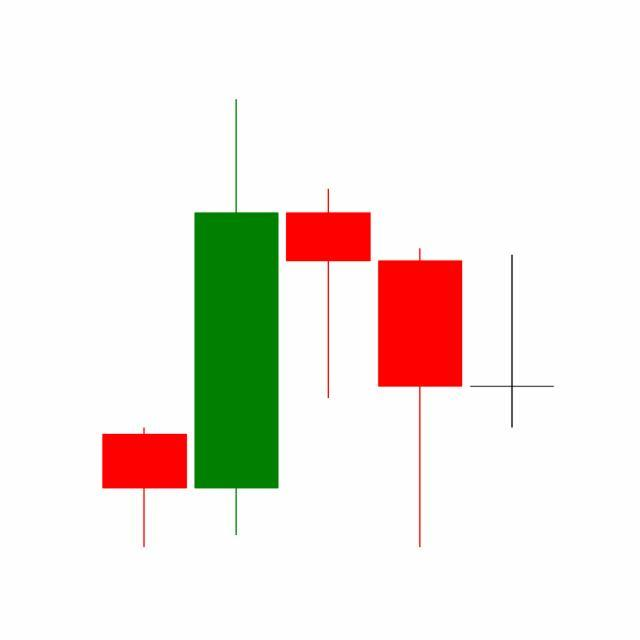Spinning Top: (466, 253, 559, 431)
